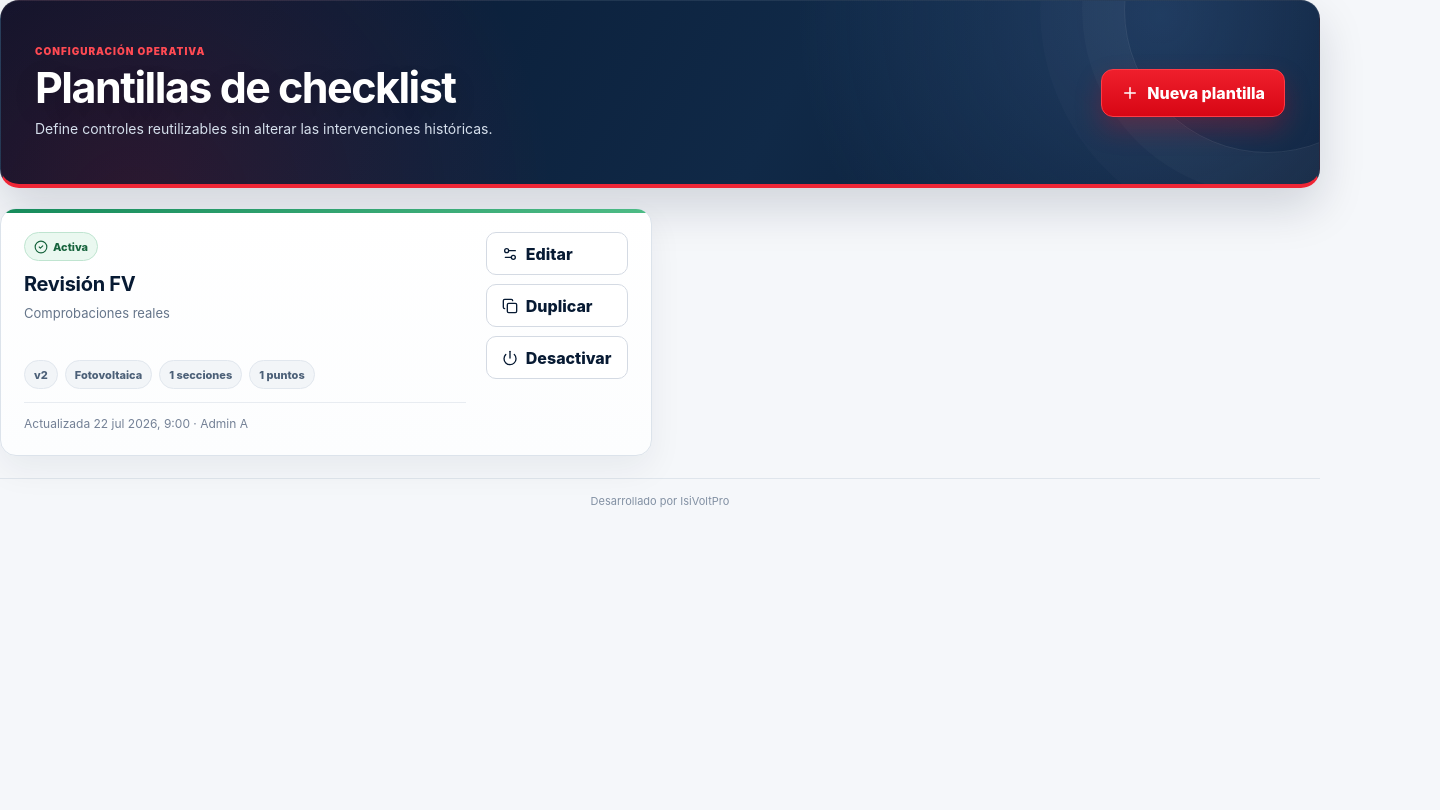
Scenario: ChecklistTemplatesWorkspace › previsualiza la plantilla con la misma jerarquía que verá el técnico
The width and height of the screenshot is (1440, 810).
Click the button "Editar": x=557, y=254 [486, 232, 628, 275]
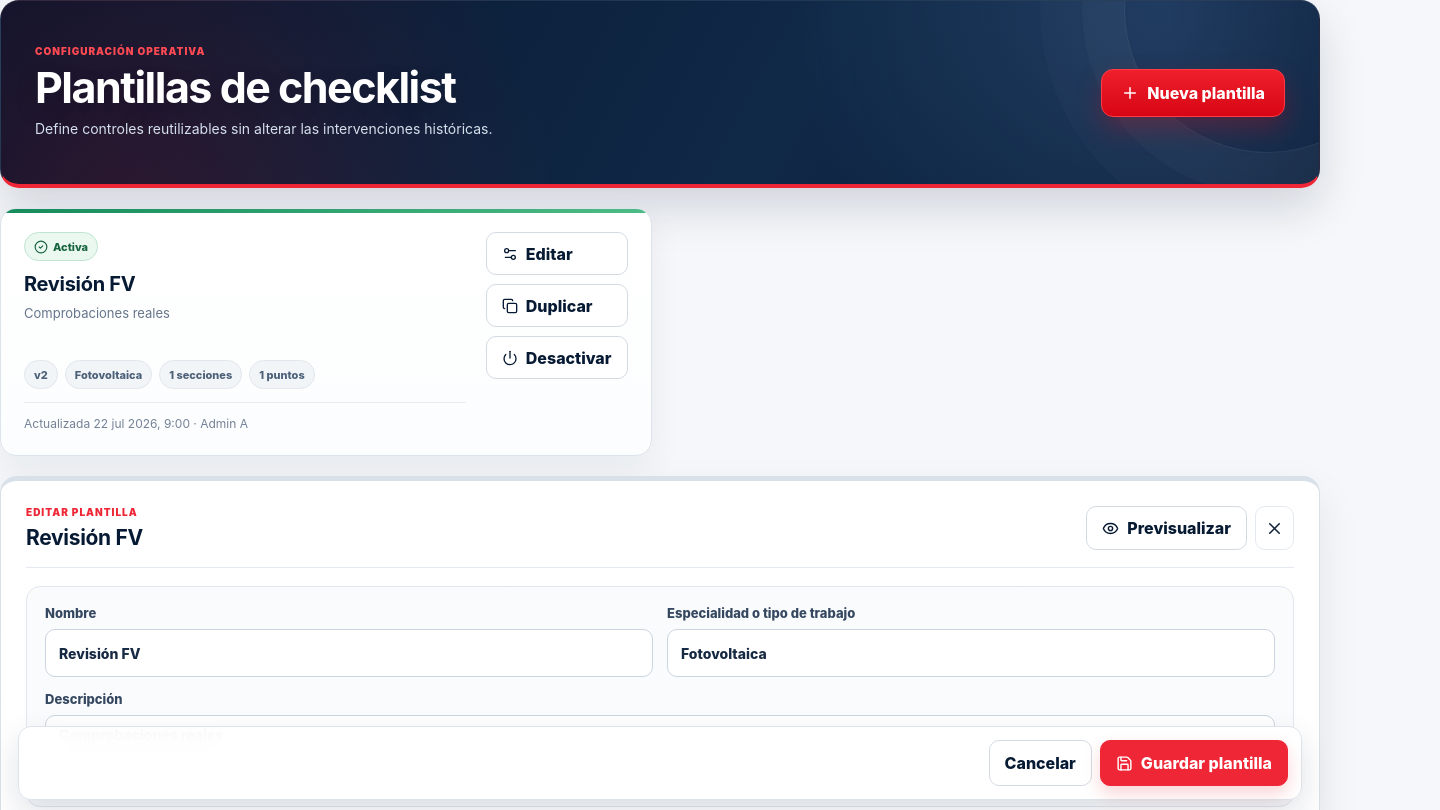
Click the button "Previsualizar": x=1167, y=528 [1086, 506, 1247, 550]
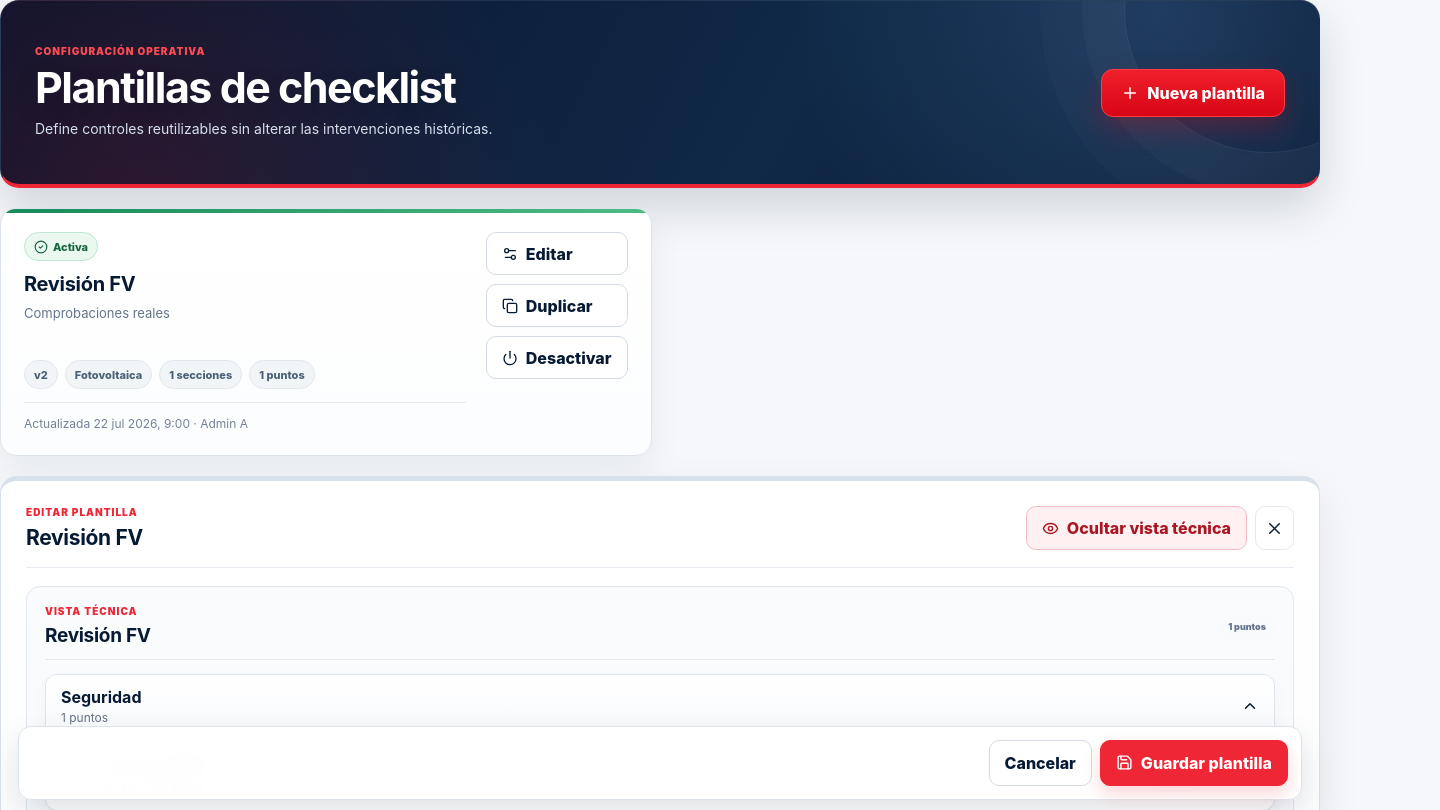
Result: the text "Foto" is shown at [1221, 763, 1259, 785]
Result: the text "Vista técnica" is shown at [45, 605, 151, 617]
